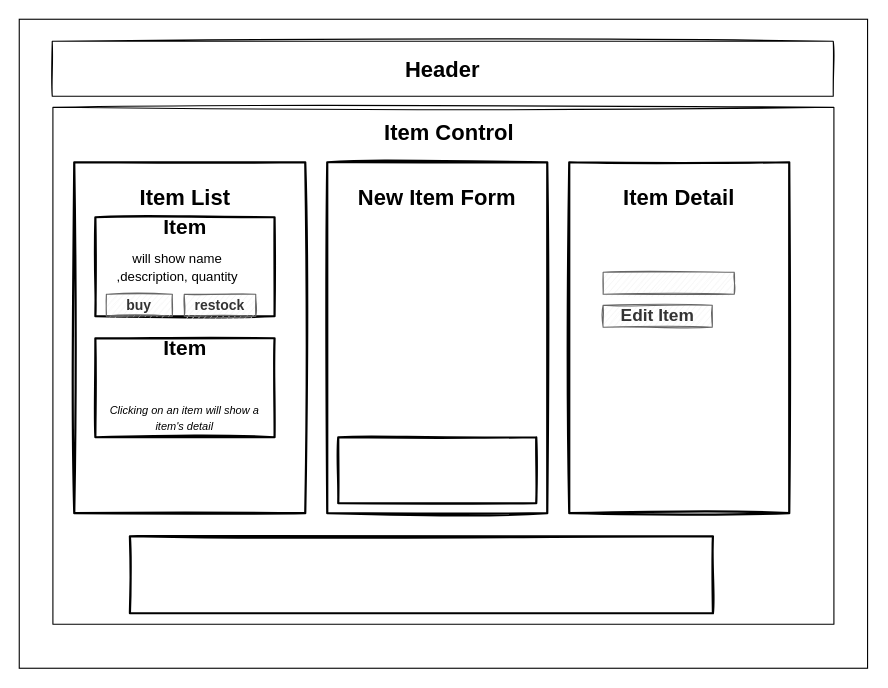
The diagram is 888 pixels wide and 688 high, and some of its shapes have lost their labels. The box of each missing label's shape, as (x1, y1, x2, y2) in pixels:
Add Item / Return to List: (128, 535, 713, 614)
Delete Item: (602, 271, 734, 294)
Submit adds items to list: (337, 436, 537, 504)
